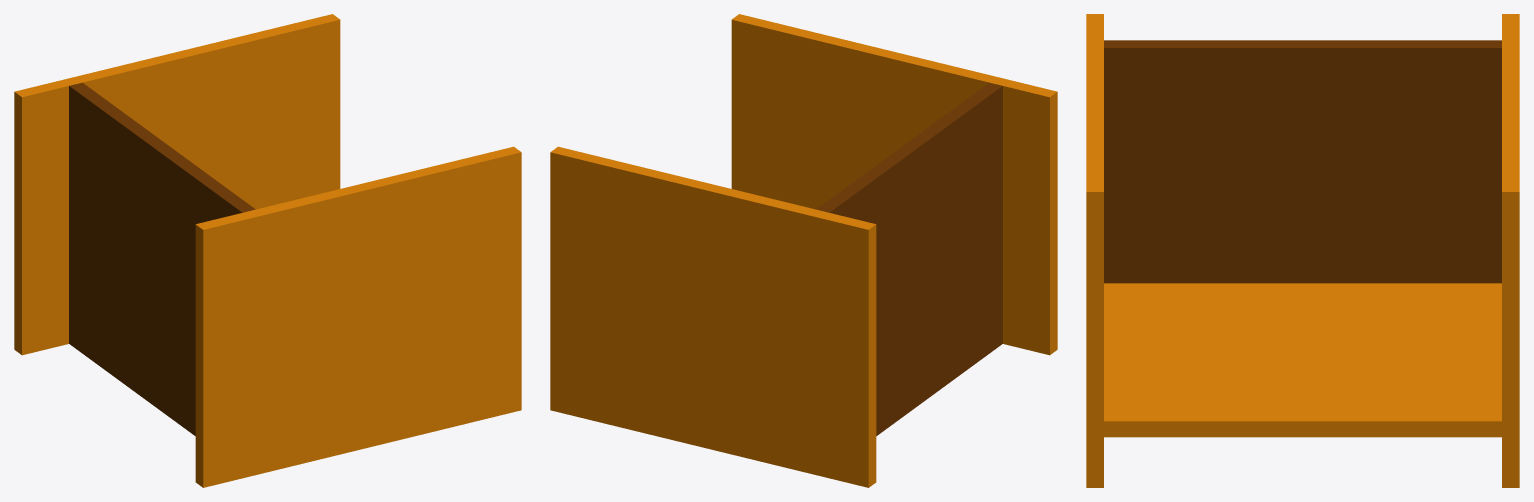
File: shop_meny_stomp_box2.glb
The picture shows the model from 3 angles, left to right: view 1: azimuth 30°, elevation 25°; view 2: azimuth 150°, elevation 25°; view 3: azimuth 270°, elevation 25°; orthographic projection. The views are drawn at different scales.
Parts seen in each view (by area): view 1: Cube.004; view 2: Cube.004; view 3: Cube.004.
Part boxes in pixels (x1=…): Cube.004: x1=14, y1=14, x2=521, y2=487; Cube.004: x1=550, y1=14, x2=1057, y2=487; Cube.004: x1=1086, y1=14, x2=1519, y2=487.
Bounding box in the file's own units: 47.44 × 36.74 × 48.76.
